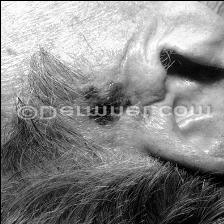Potentially Malignant Skin Tumors: (86, 76, 136, 124)
